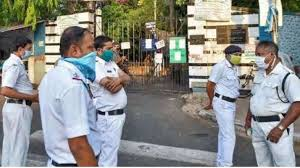mask: (61, 26, 95, 72), (255, 40, 279, 69), (95, 34, 112, 60), (14, 38, 32, 61), (223, 45, 241, 64)
